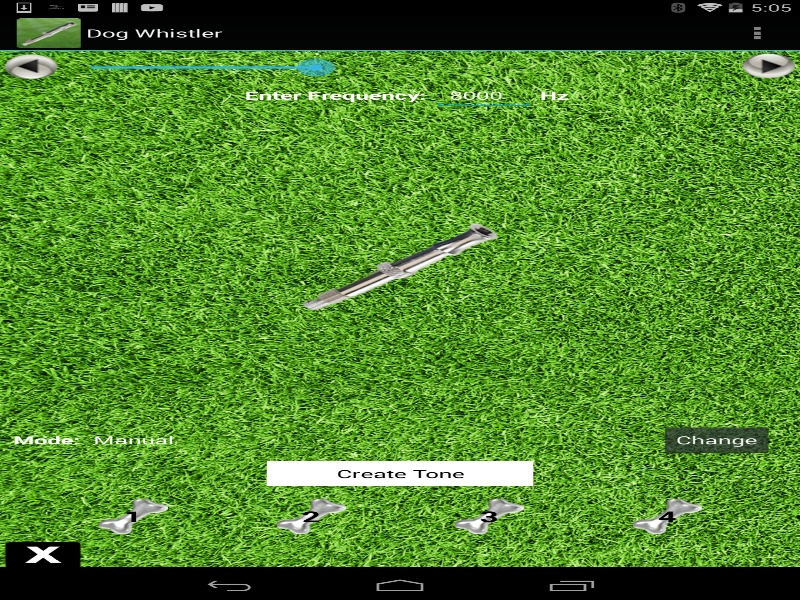Button: (301, 221, 498, 310), (266, 461, 533, 486), (660, 425, 773, 455), (714, 15, 800, 50), (98, 498, 168, 534), (276, 498, 346, 534), (454, 498, 524, 534), (632, 498, 702, 534), (0, 539, 85, 566), (0, 51, 64, 81), (736, 51, 800, 81)
Input: (433, 83, 533, 107)
